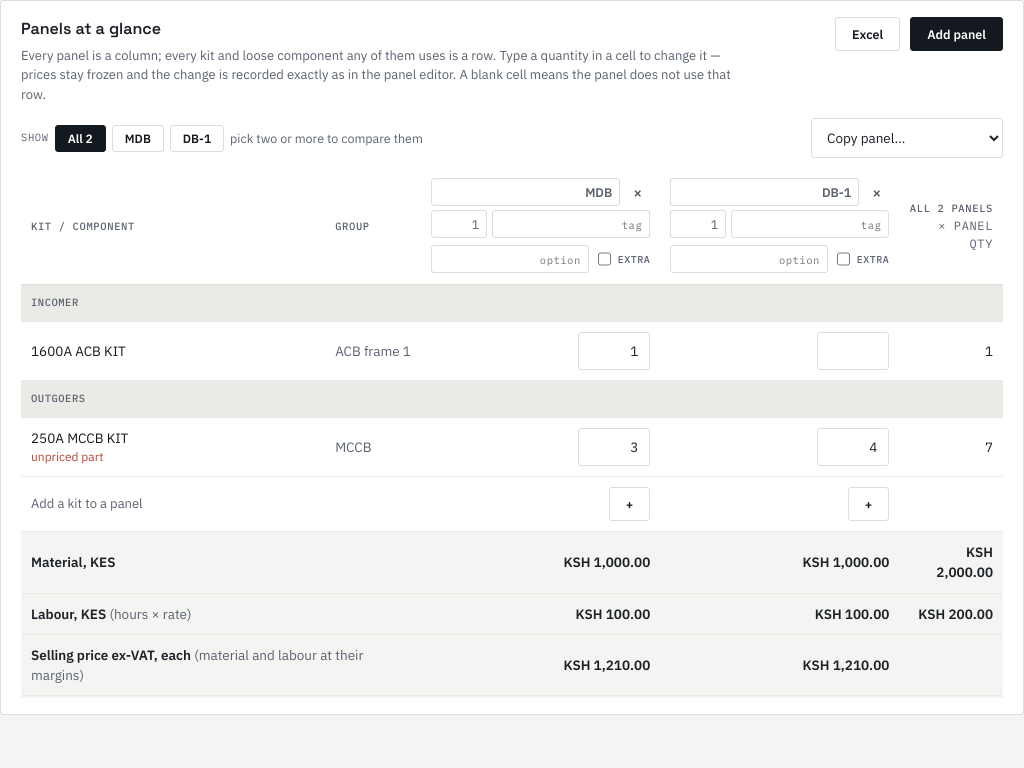
Test: the costing grid › opens a kit row to show the lines inside it, without leaving the grid
Click the button "250A MCCB KIT" at (80, 438), box [31, 428, 128, 448]
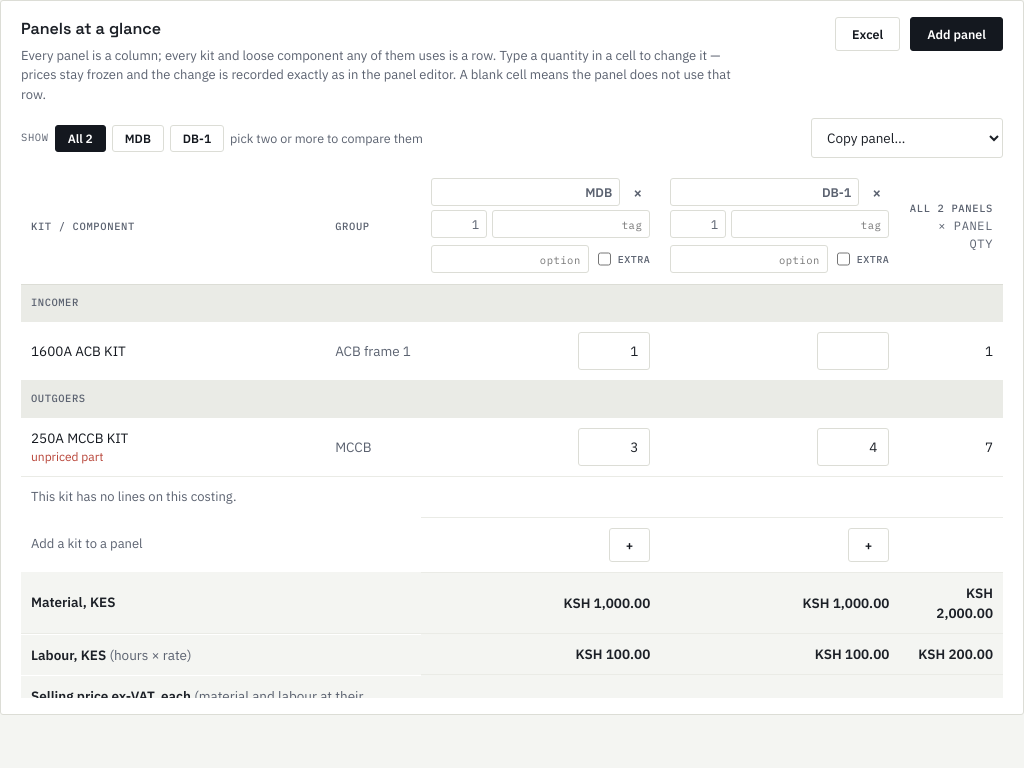
Expected: the text "This kit has no lines on this costing." is shown, [21, 476, 1003, 517]
